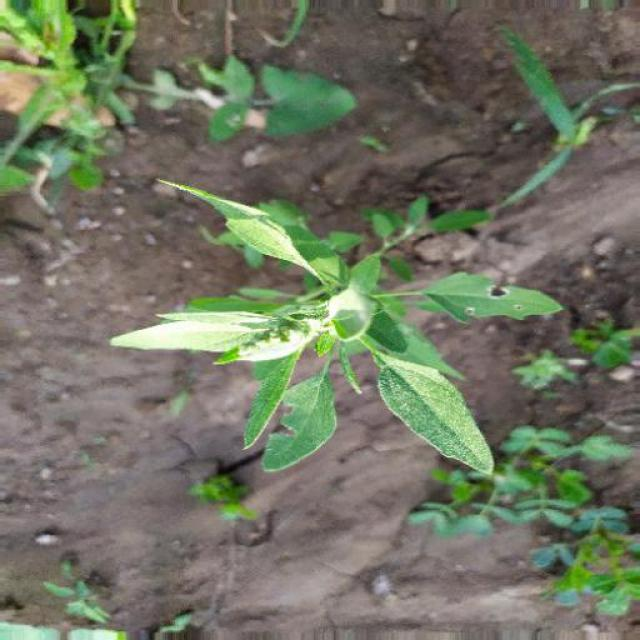weed: (125, 165, 555, 511)
